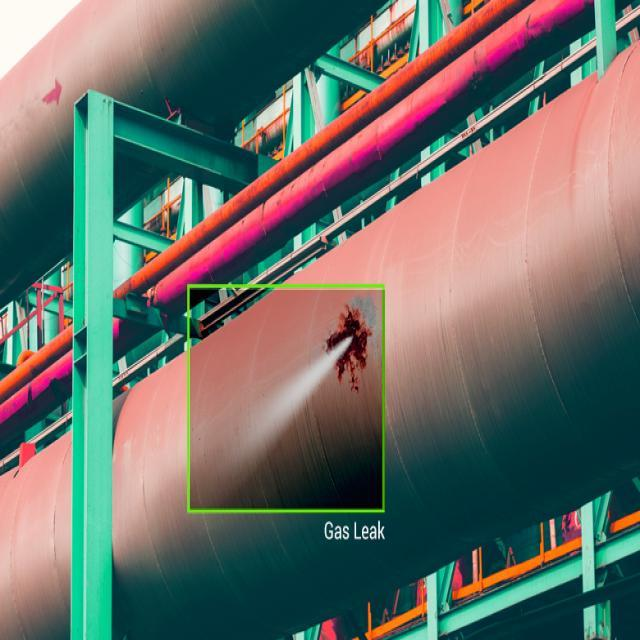corrosion: (180, 278, 378, 498)
